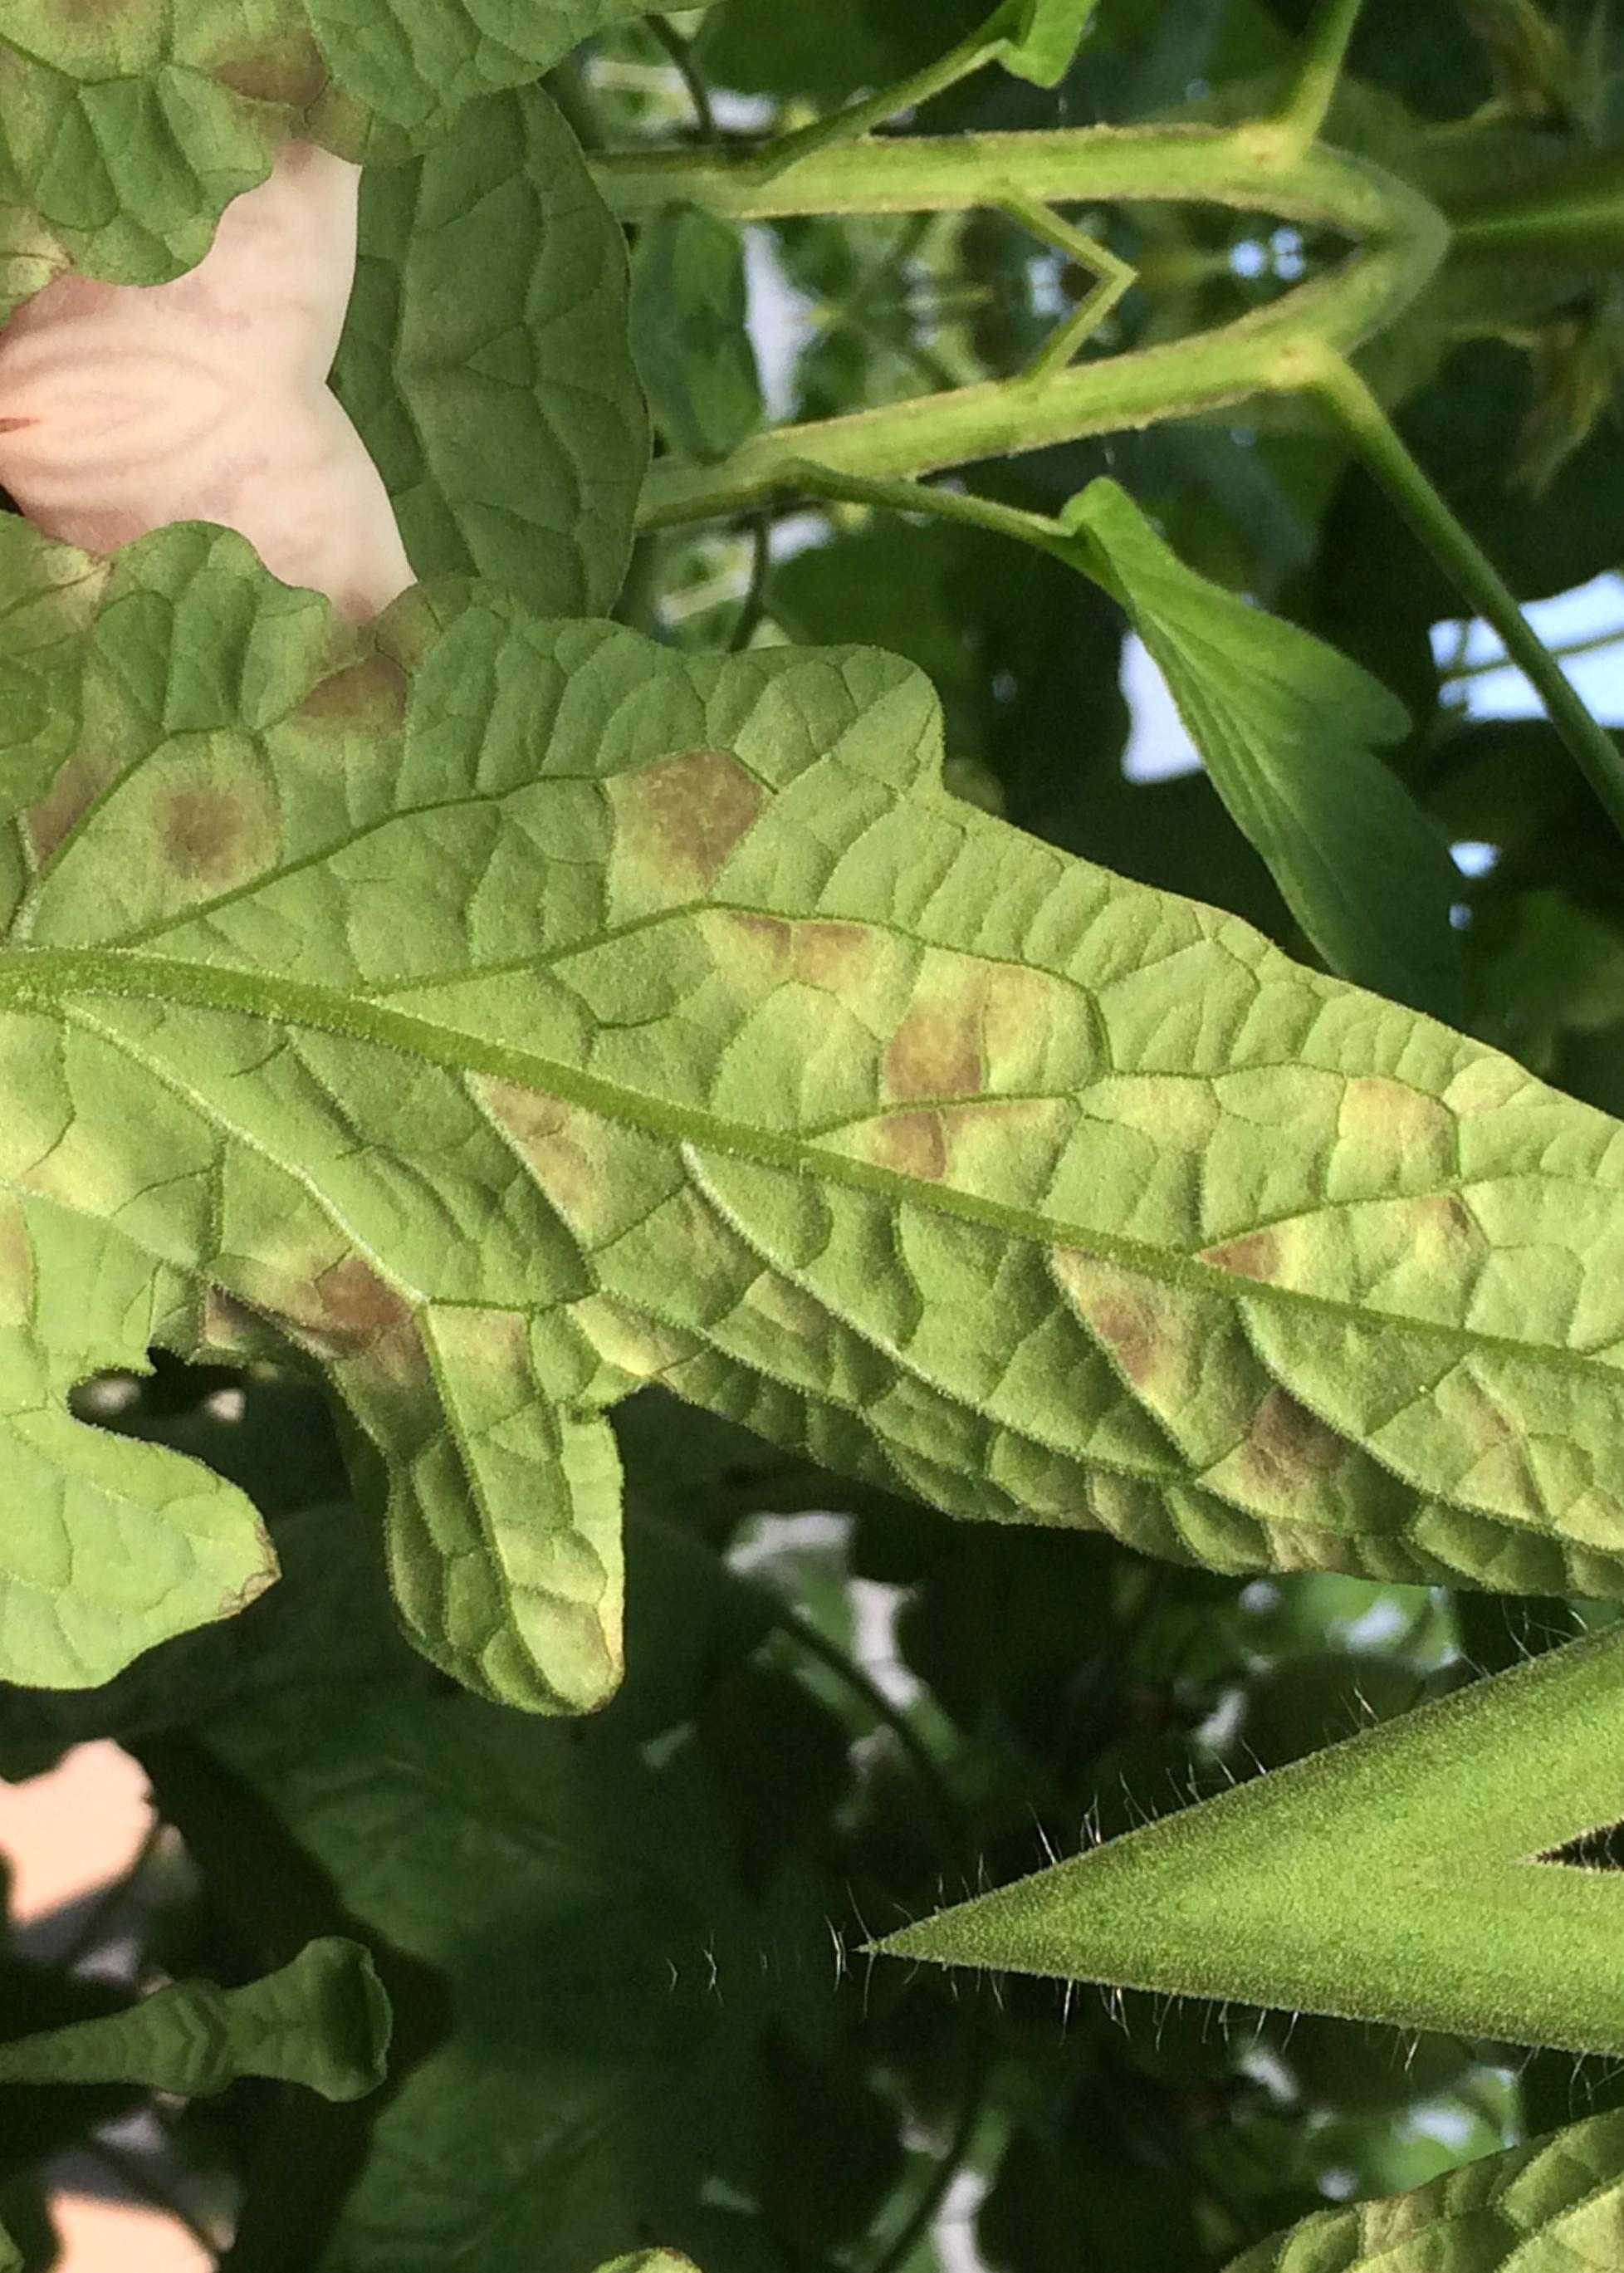Tomato mold leaf: (0, 262, 1624, 1890)
